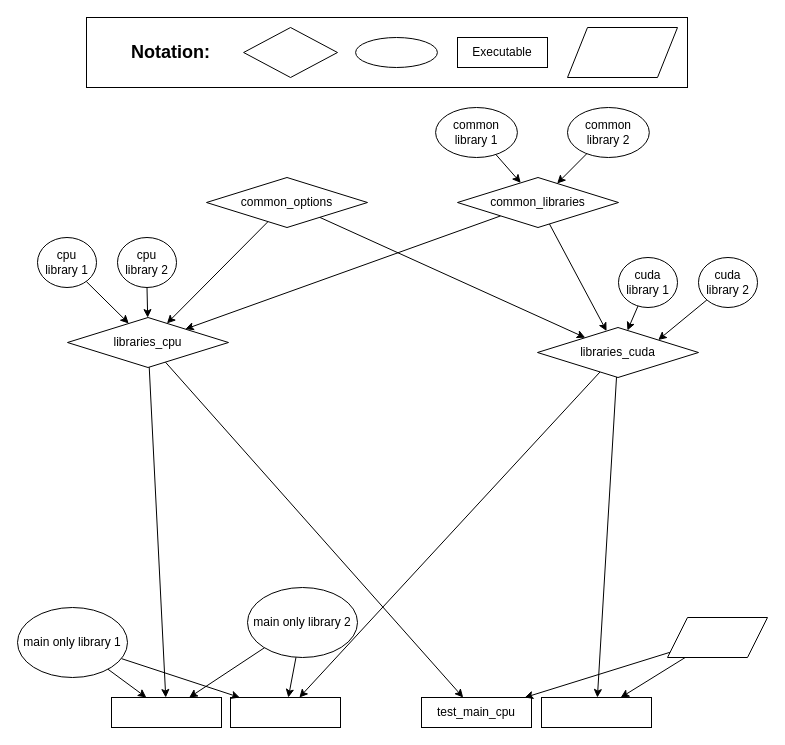
The diagram is 785 pixels wide and 745 high, and some of its shapes have lost their labels. The shapes that lost their labels are listed below. From the top down, each one's centre as x and y in pixels, then its label:
(290,52): Interface
(396,52): library
(622,52): External Dependency
(717,637): google test
(166,712): main_cpu
(285,712): main_cuda
(596,712): test_main_cuda
